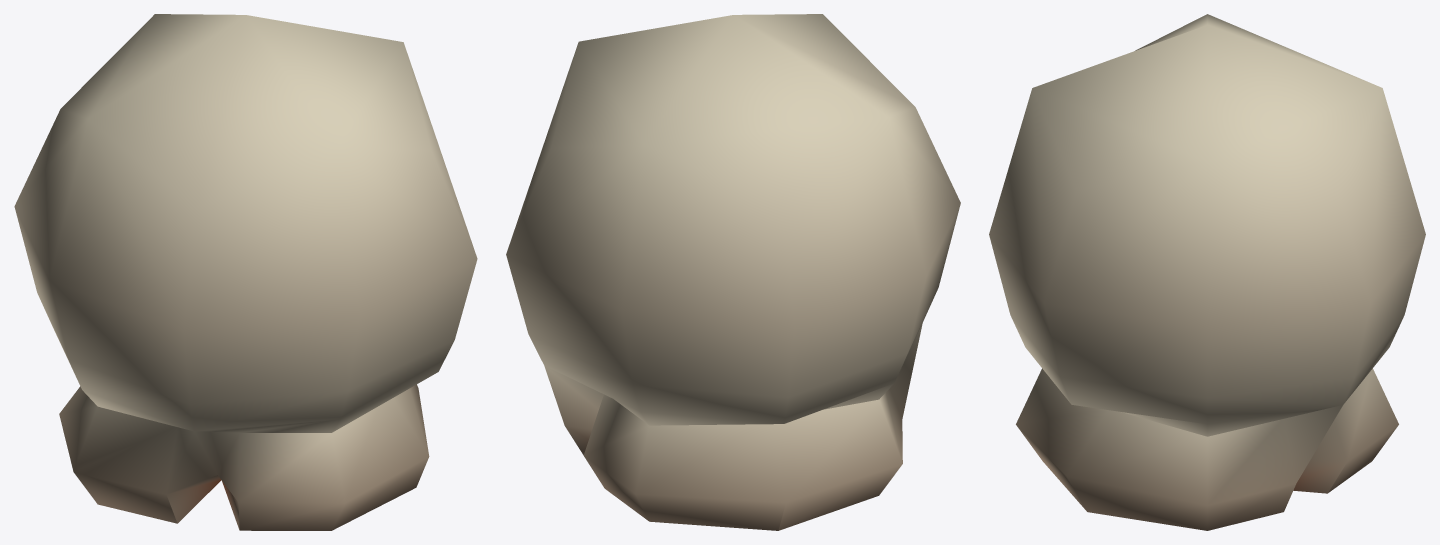
Rendered from consumables-junkfood-popcorn_v5.glb.
The picture shows the model from 3 angles, left to right: view 1: azimuth 30°, elevation 25°; view 2: azimuth 150°, elevation 25°; view 3: azimuth 270°, elevation 25°; orthographic projection. The views are drawn at different scales.
Parts seen in each view (by area): view 1: Popcorn_v5; view 2: Popcorn_v5; view 3: Popcorn_v5.
Boxes of the visible parts, x1=… form: Popcorn_v5: x1=14, y1=14, x2=477, y2=530; Popcorn_v5: x1=506, y1=14, x2=960, y2=530; Popcorn_v5: x1=989, y1=14, x2=1425, y2=530.
Bounding box in the file's own units: 0.0202 × 0.0222 × 0.0202.
